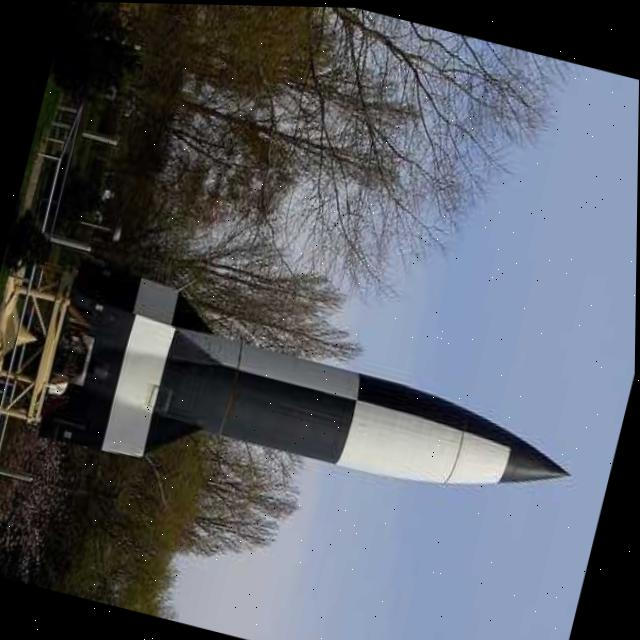missile: (32, 249, 598, 576)
